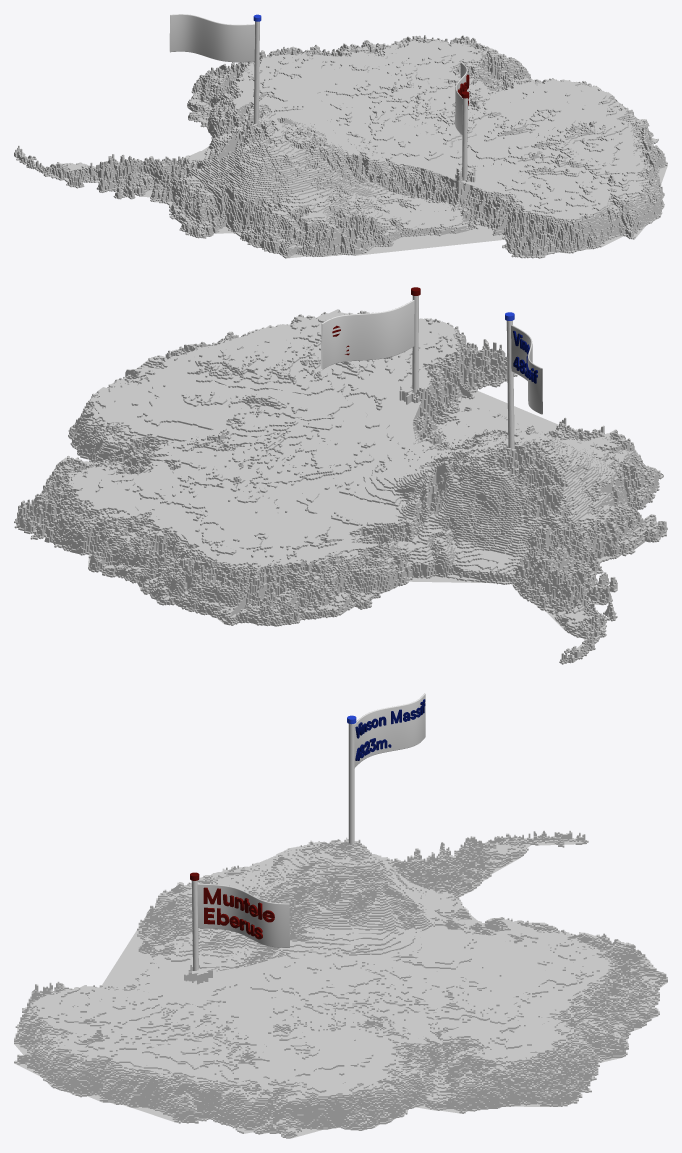
Rendered from Antarctica1.fbx.
The picture shows the model from 3 angles, top to bottom: view 1: azimuth 30°, elevation 25°; view 2: azimuth 150°, elevation 25°; view 3: azimuth 270°, elevation 25°; orthographic projection. The views are drawn at different scales.
Parts seen in each view (by area): view 1: Plane.041, Cylinder.001, Cylinder, Cylinder.020, Cylinder.019; view 2: Plane.041, Cylinder.019, Cylinder.001, Cylinder, Cylinder.020; view 3: Plane.041, Cylinder.019, Cylinder.001, Text.015, Text, Cylinder, Cylinder.020.
Boxes of the visible parts, x1,y1,x2,y2 form: Plane.041: [14, 35, 667, 258]; Cylinder.001: [169, 14, 254, 62]; Cylinder: [253, 14, 261, 125]; Cylinder.020: [461, 91, 469, 180]; Cylinder.019: [455, 62, 467, 135]; Plane.041: [14, 309, 667, 664]; Cylinder.019: [321, 300, 414, 369]; Cylinder.001: [511, 325, 542, 414]; Cylinder: [505, 312, 514, 449]; Cylinder.020: [411, 287, 420, 394]; Plane.041: [14, 830, 667, 1138]; Cylinder.019: [197, 883, 289, 947]; Cylinder.001: [354, 693, 425, 767]; Text.015: [203, 887, 274, 939]; Text: [355, 699, 425, 760]; Cylinder: [347, 715, 356, 845]; Cylinder.020: [190, 872, 199, 970].
Bounding box in the file's own units: 1287 × 424 × 1195.
